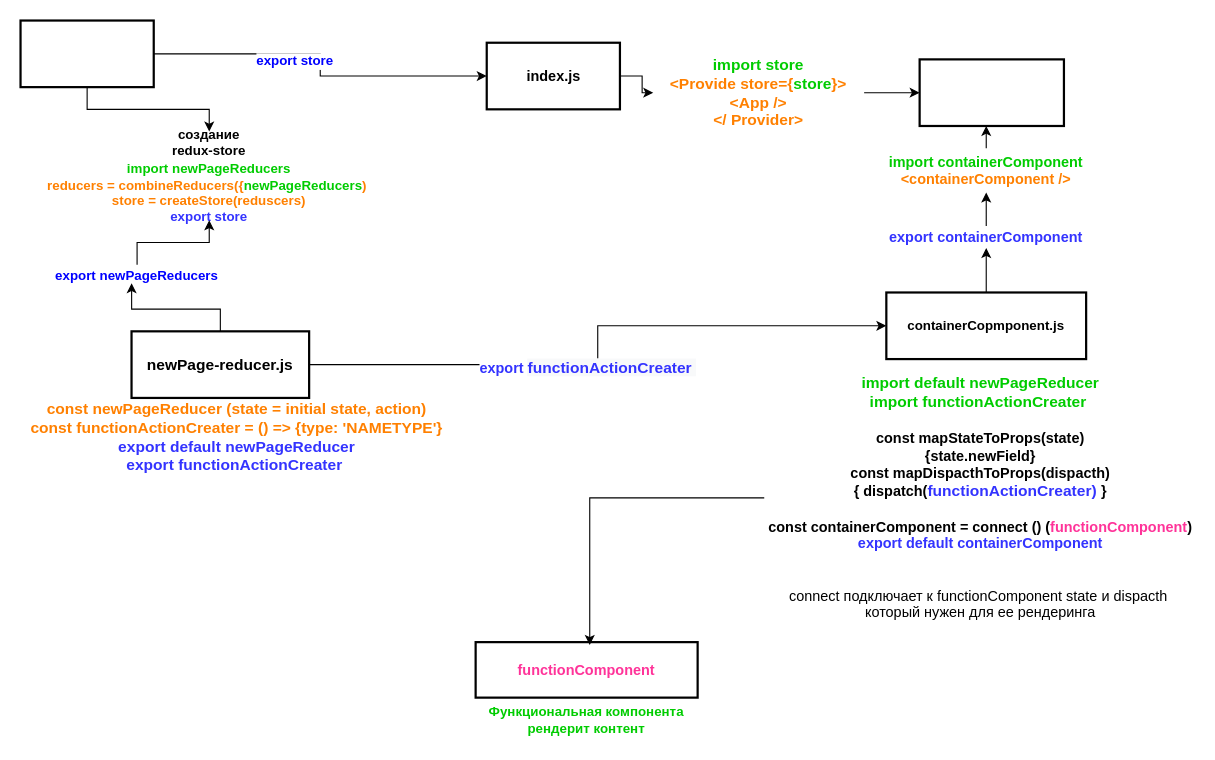
This 1215x760 diagram has some shape labels left out. The shapes that lost their labels are listed below. From the top down, each one's box as (x1, y1, x2, y2) in pixels, then its label:
(19, 19, 154, 88): redux-store
(918, 58, 1064, 127): App.js
